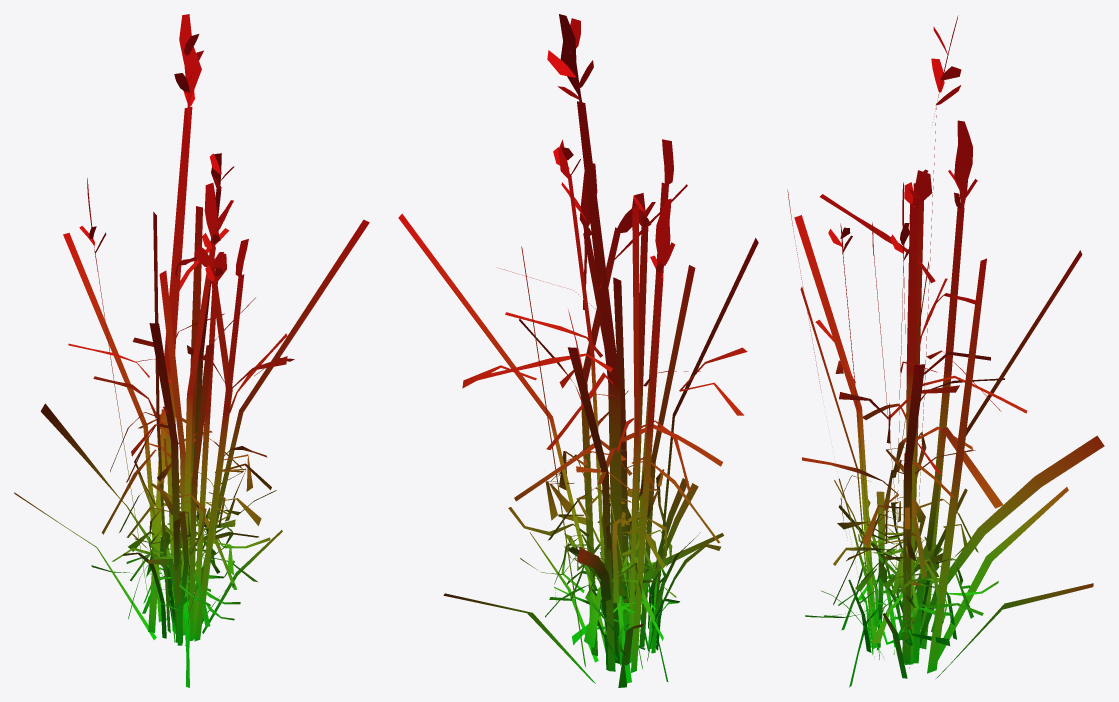
Rendered from Var3_LOD2.fbx.
3 renders of one model, left to right at view 1: azimuth 30°, elevation 25°; view 2: azimuth 150°, elevation 25°; view 3: azimuth 270°, elevation 25°, orthographic. The views are drawn at different scales.
Parts seen in each view (by area): view 1: _ba6d_Var3_LOD2; view 2: _ba6d_Var3_LOD2; view 3: _ba6d_Var3_LOD2.
Part boxes in pixels (x1=…): _ba6d_Var3_LOD2: x1=14, y1=14, x2=369, y2=687; _ba6d_Var3_LOD2: x1=398, y1=14, x2=758, y2=687; _ba6d_Var3_LOD2: x1=787, y1=15, x2=1104, y2=687.
Bounding box in the file's own units: 55.86 × 116 × 48.03.
